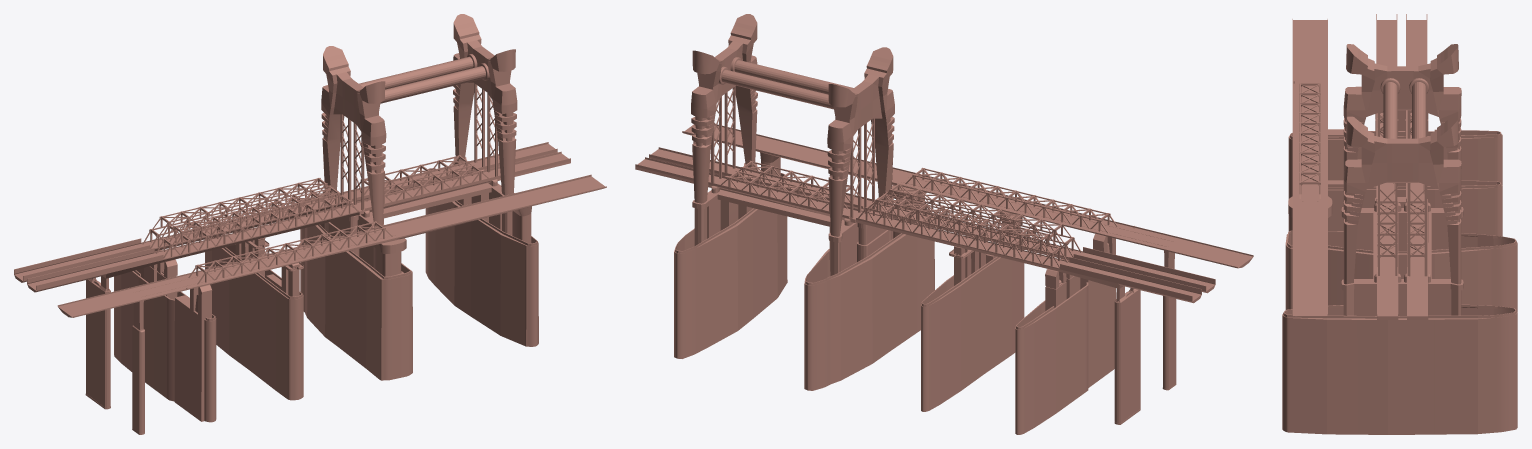
File: Brug 1 en 2 samen untextured.fbx
3 renders of one model, left to right at view 1: azimuth 30°, elevation 25°; view 2: azimuth 150°, elevation 25°; view 3: azimuth 270°, elevation 25°, orthographic. The views are drawn at different scales.
Visible parts, largest first — view 1: pCube95; view 2: pCube95; view 3: pCube95.
Boxes of the visible parts, x1=… form: pCube95: x1=14, y1=14, x2=606, y2=434; pCube95: x1=635, y1=14, x2=1253, y2=434; pCube95: x1=1282, y1=14, x2=1517, y2=434.
Size of the model in its own units: 635 by 313 by 213.
